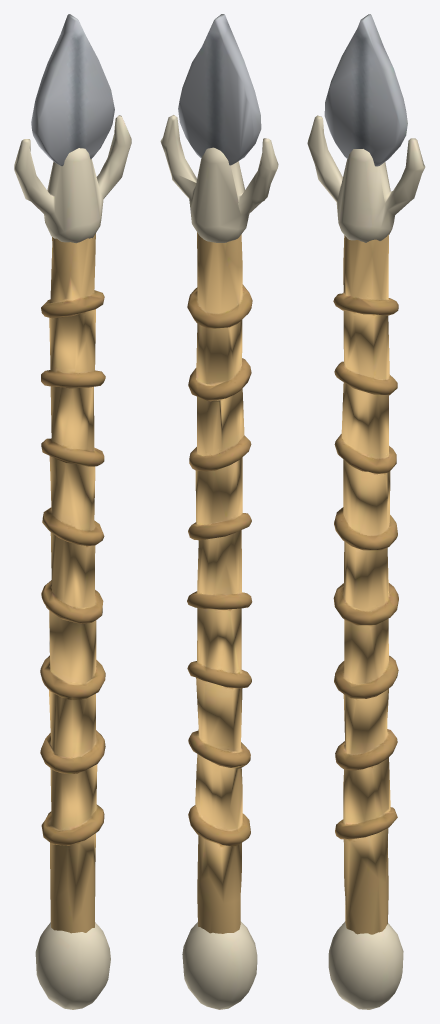
The model's file is spear.glb.
3 renders of one model, left to right at view 1: azimuth 30°, elevation 25°; view 2: azimuth 150°, elevation 25°; view 3: azimuth 330°, elevation 25°, orthographic.
Visible parts, largest first — view 1: wood; view 2: wood; view 3: wood.
Boxes of the visible parts, x1,y1,x2,y2 form: wood: (14,14,131,1009); wood: (160,14,278,1009); wood: (307,14,425,1009).
Bounding box in the file's own units: 0.2103 × 1.72 × 0.1179.
1 material, 1 textured.
